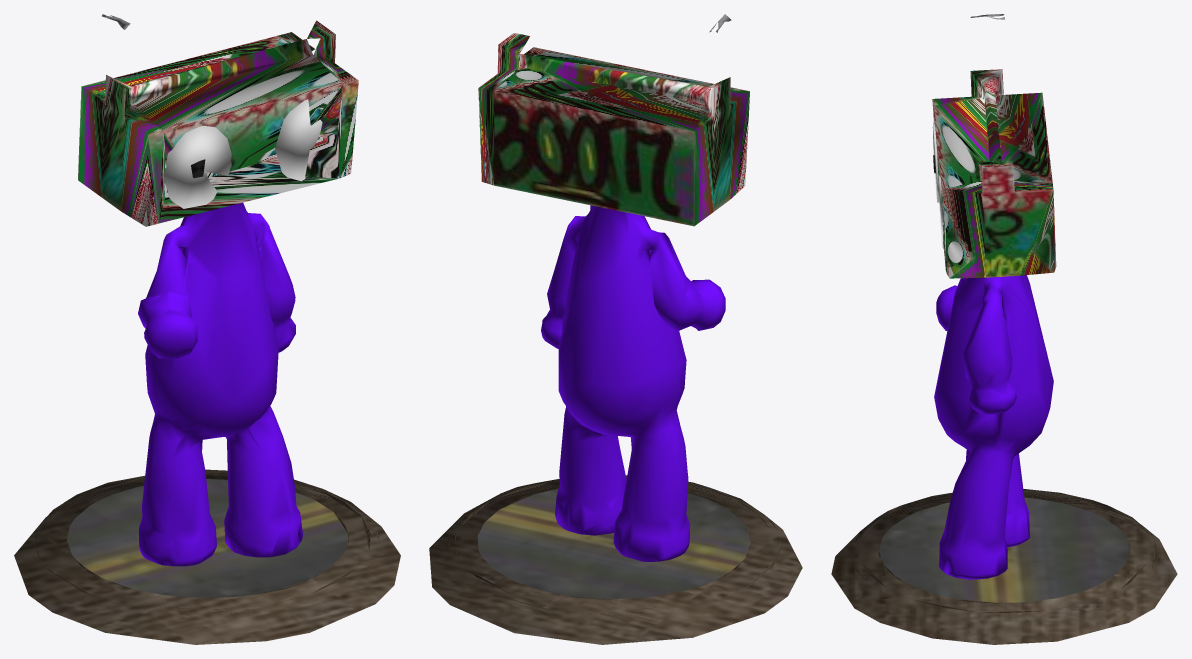
3 views of the same model, side by side, from view 1: azimuth 30°, elevation 25°; view 2: azimuth 150°, elevation 25°; view 3: azimuth 270°, elevation 25° (orthographic). The views are drawn at different scales.
Size of the model in its own units: 1.44 by 2.37 by 1.45.
7 materials, 3 textured.
